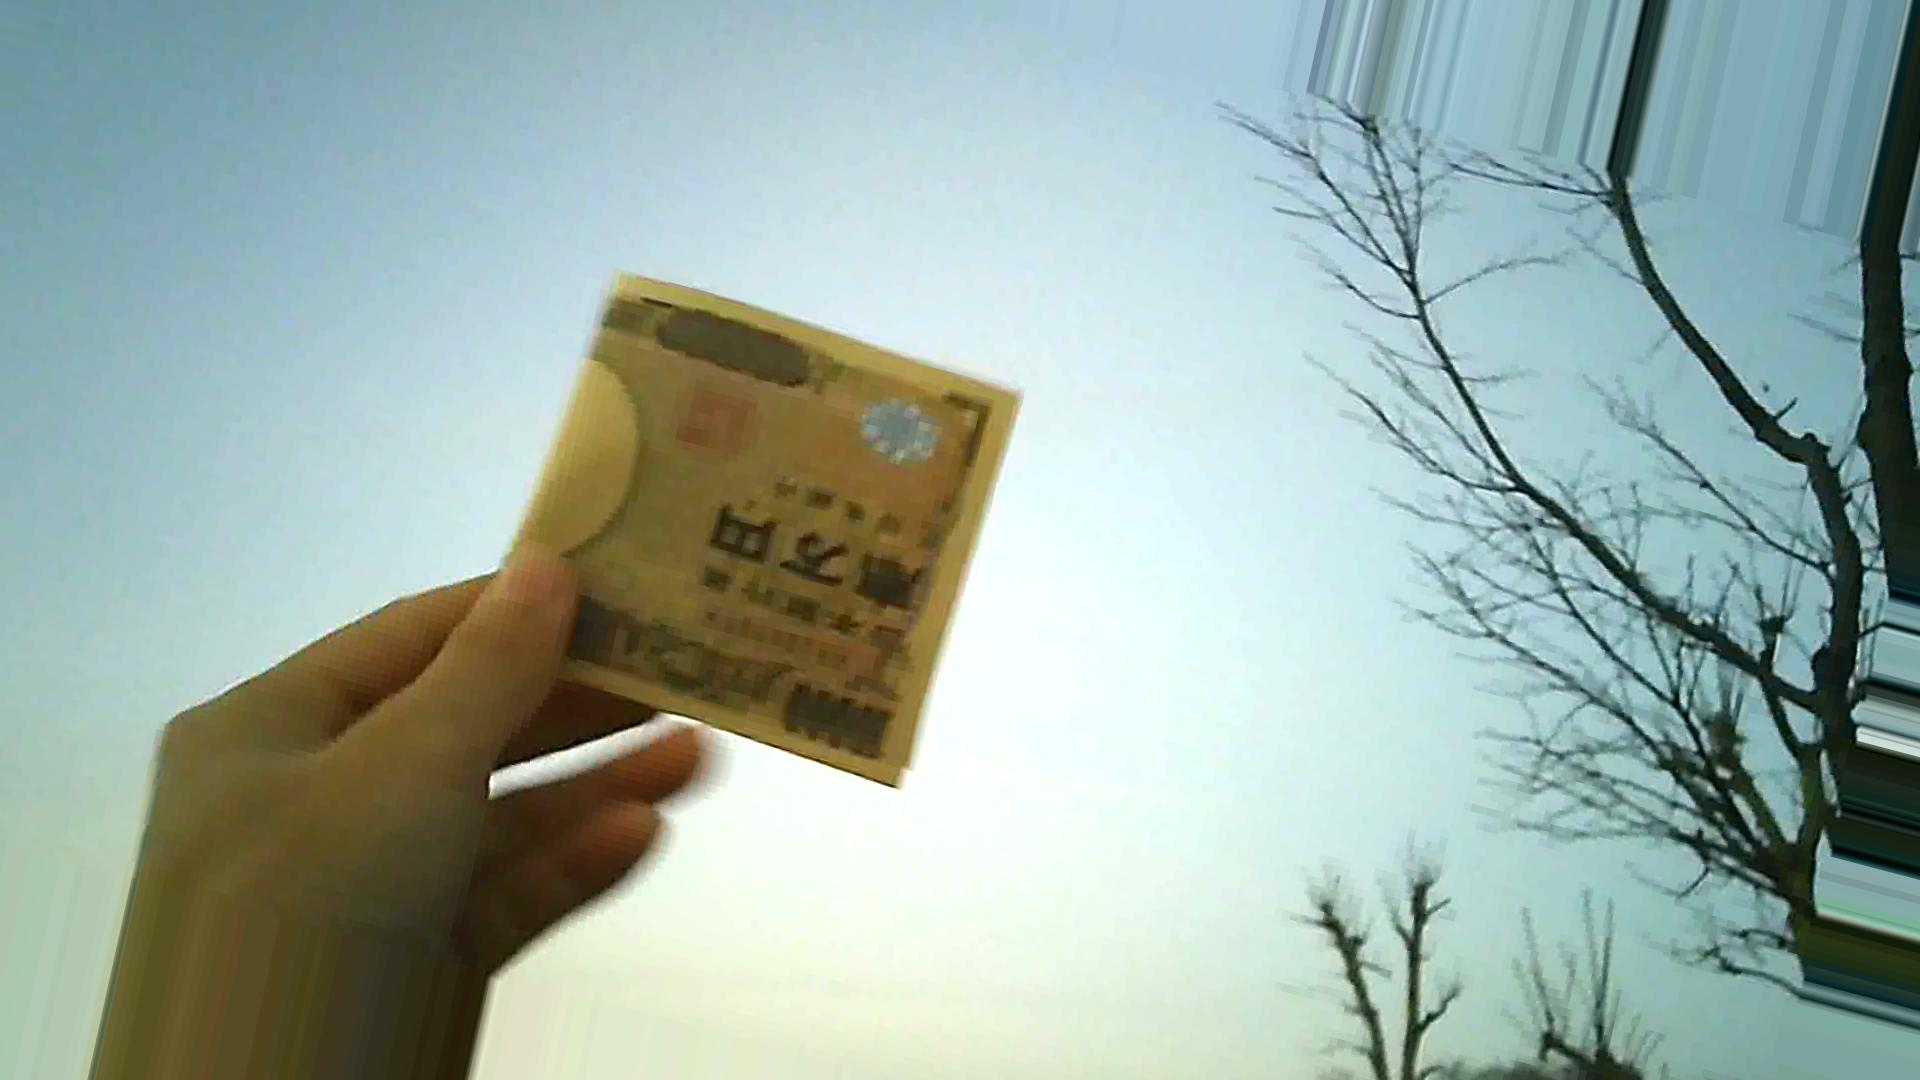10,000 Yen: (483, 265, 1033, 786)
